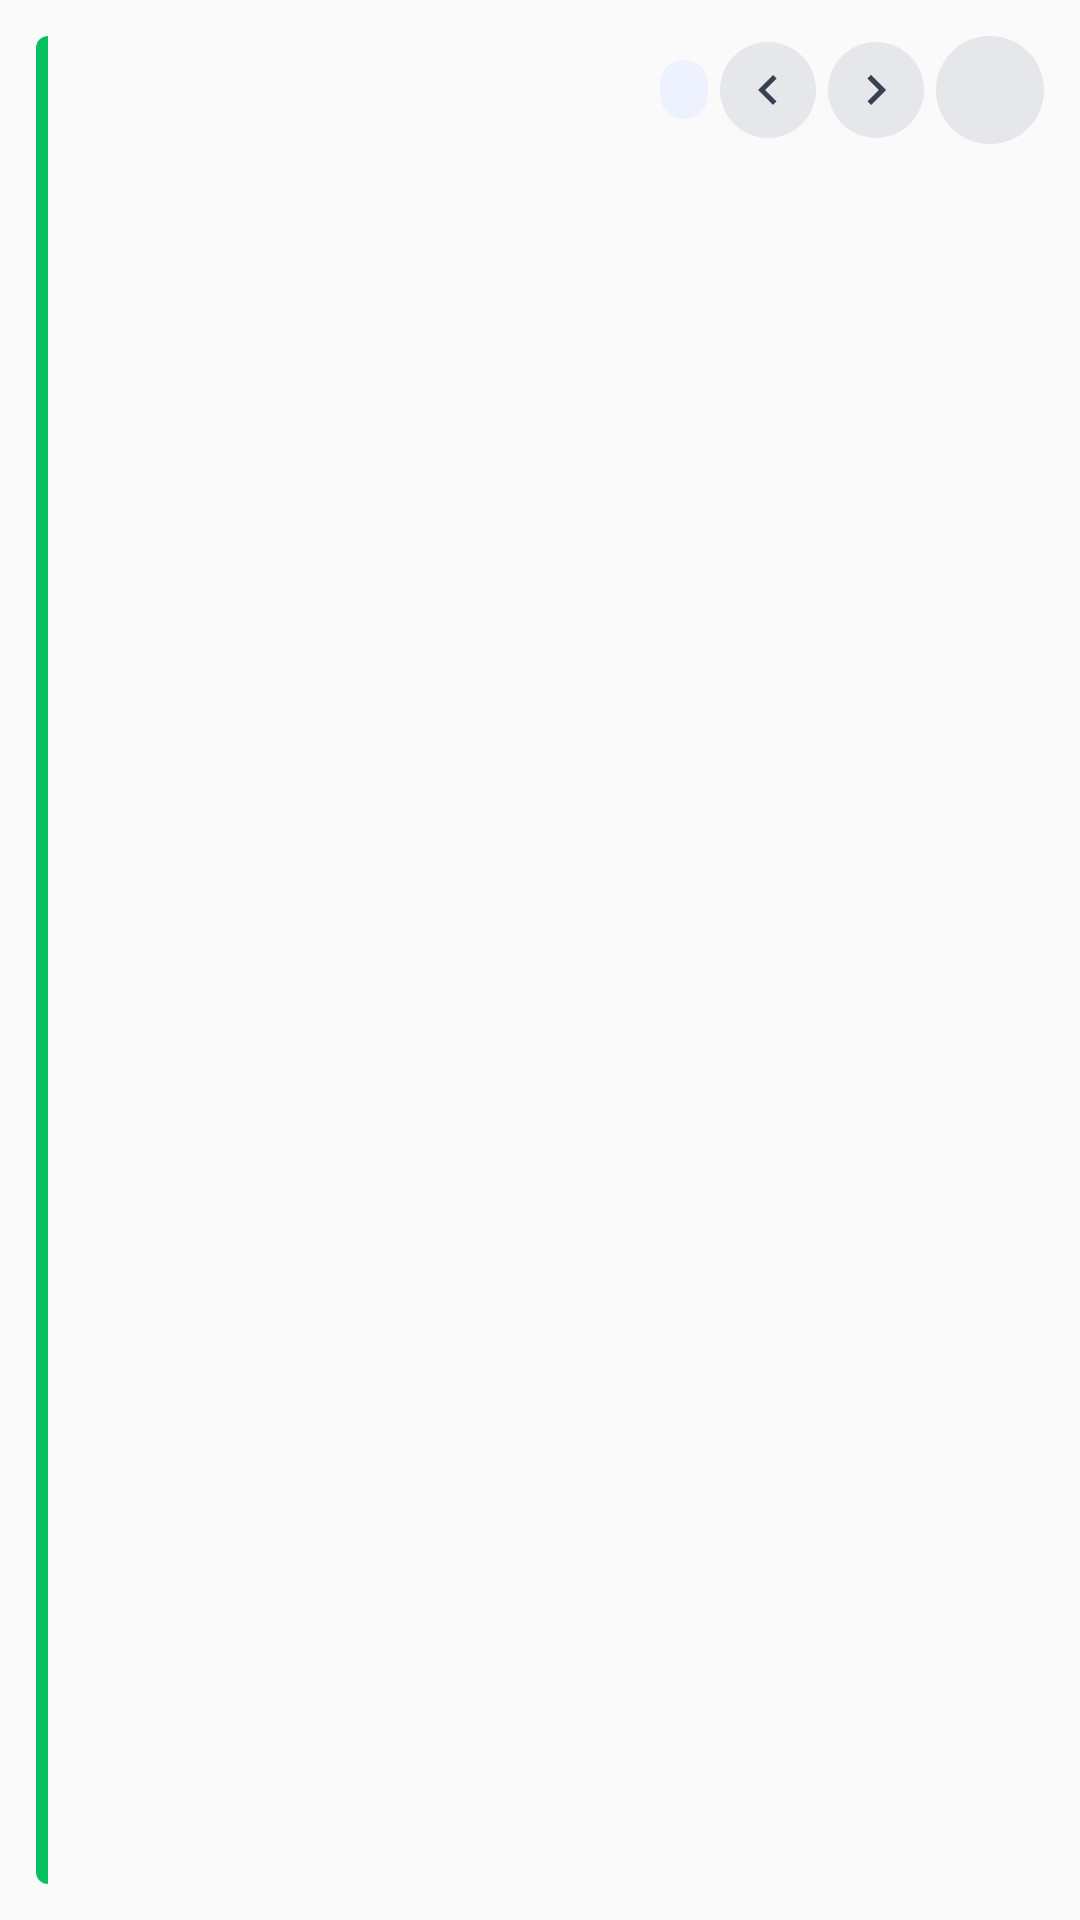

Icon bounding boxes for this 1080×1920 phone screenshot, format (x1, y1, x2, y2):
上一任务: (720, 42, 816, 138)
下一任务: (828, 42, 924, 138)
